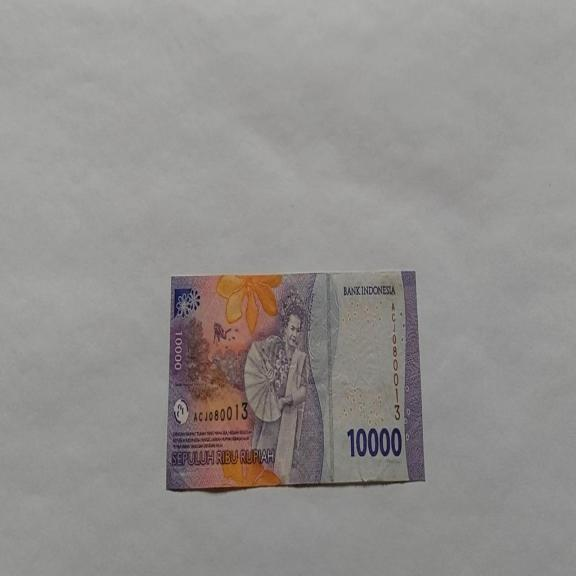Kertas: (166, 269, 424, 491), (346, 424, 403, 459)
